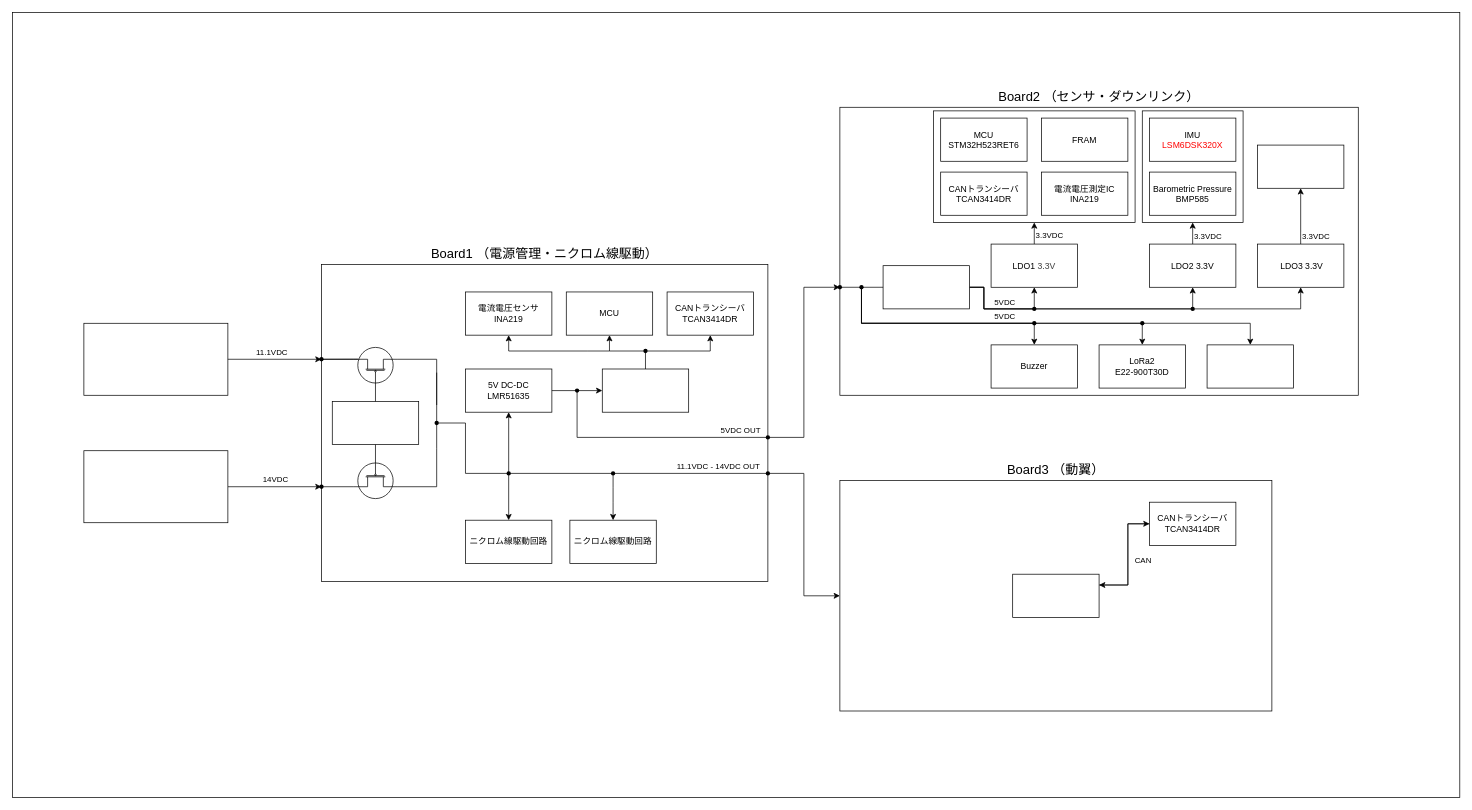
This 1472x810 diagram has some shape labels left out. The centre of each missing label's shape, as x and y in pixels:
3V LDO: the point at 645,390
External Power Supply 14V: the point at 155,486
GNSS MAX-M10S: the point at 1300,166
LiPo 3S 11.1V: the point at 155,359
LoRa1 E22-900T30D: the point at 1249,366
MCU STM32F303K8T6: the point at 1055,595
瞬断保護回路: the point at 925,287
電源切り替えIC LTC4353: the point at 375,423
